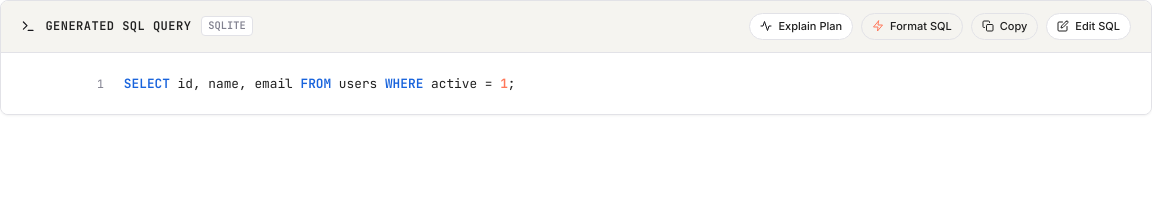
SqlViewer Component › resets query to original sql when Reset is clicked
Click the button "Edit SQL" at point(1089, 26), box [1046,13,1131,40]
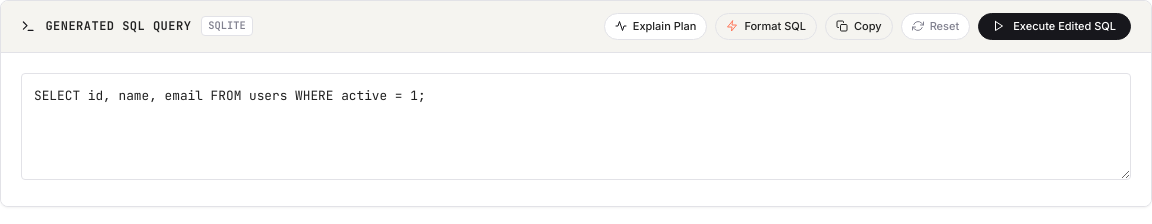
Replace the text in the text box named "editable sql statement" with "SELECT 1;" at point(576, 126), box [21,72,1131,180]
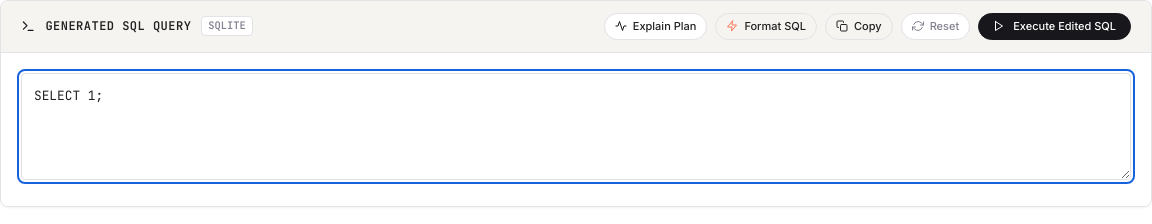
Click the button "Reset" at point(935, 26), box [901,13,970,40]
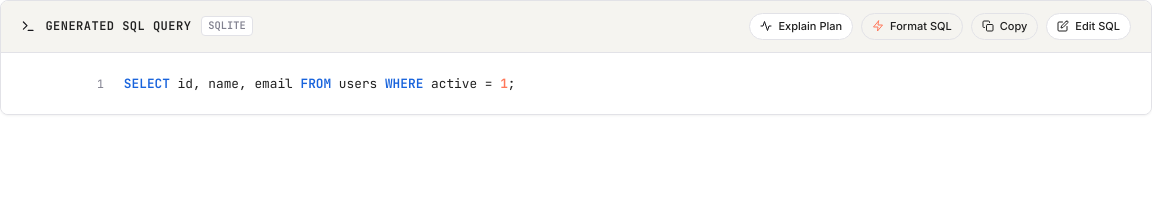
expect the button "Edit SQL" is shown: met, box [1046,13,1131,40]
